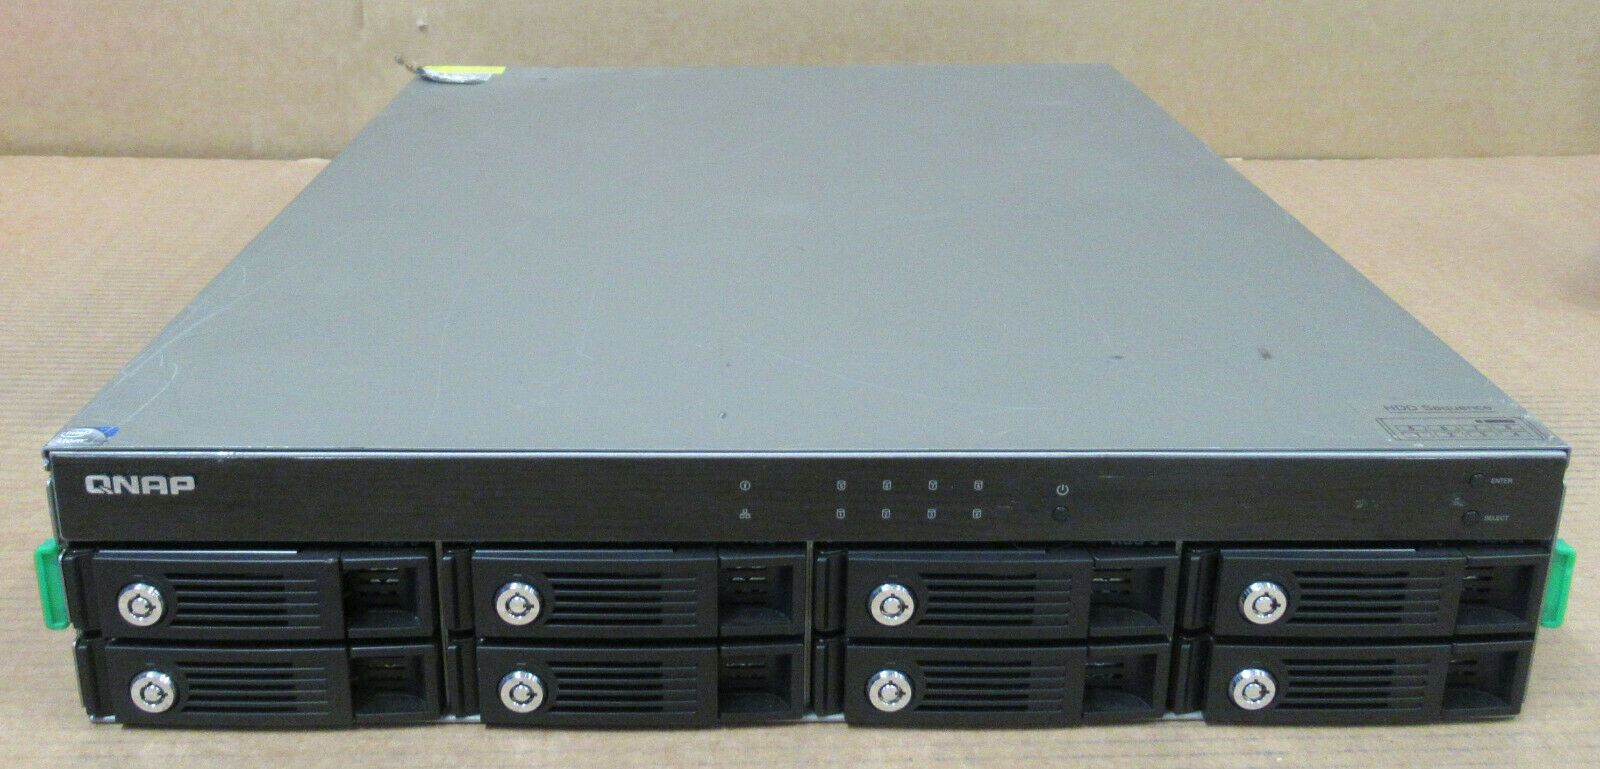NAS: (24, 324, 1600, 765)
